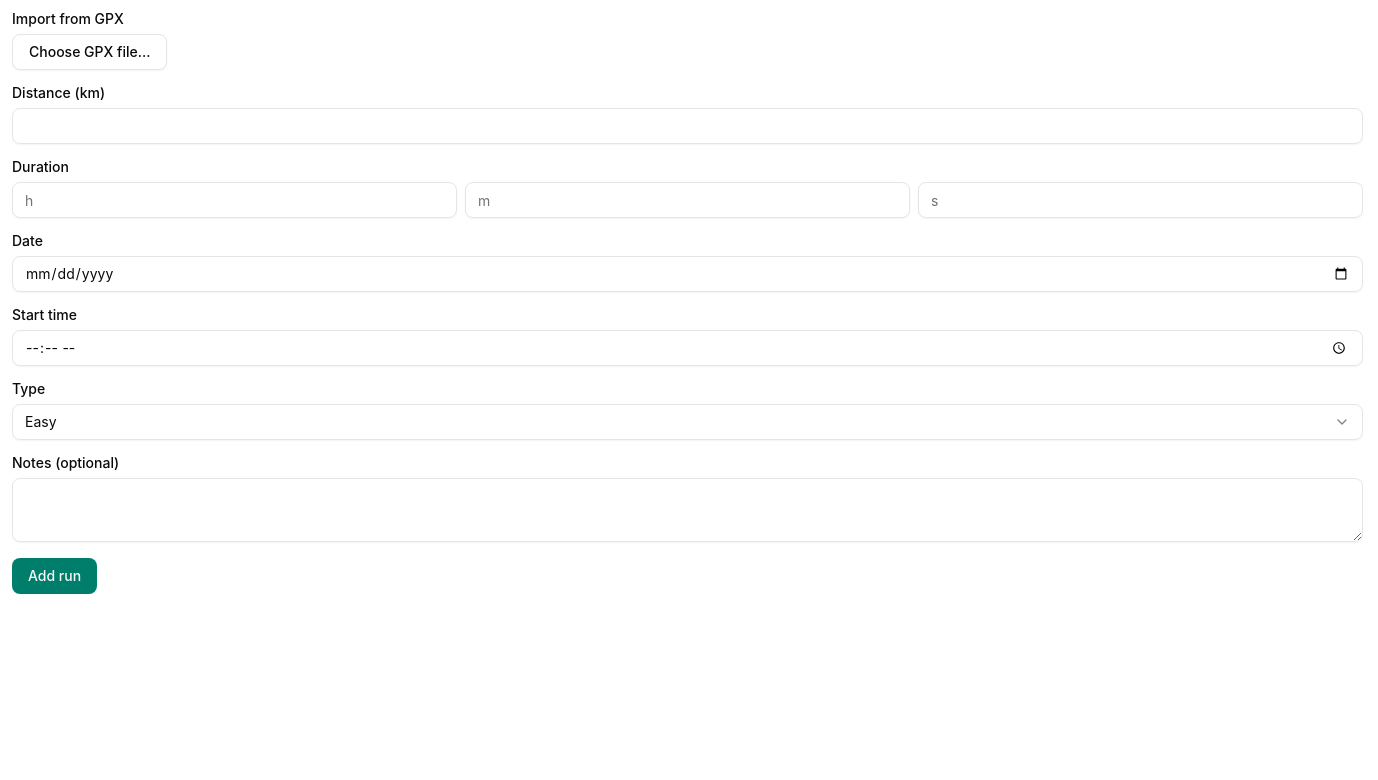
RunForm duration validation › blocks submit and shows an error when duration is empty
In the number field labelled "Distance (km)": (688, 126) [12,108,1363,144], type "5"
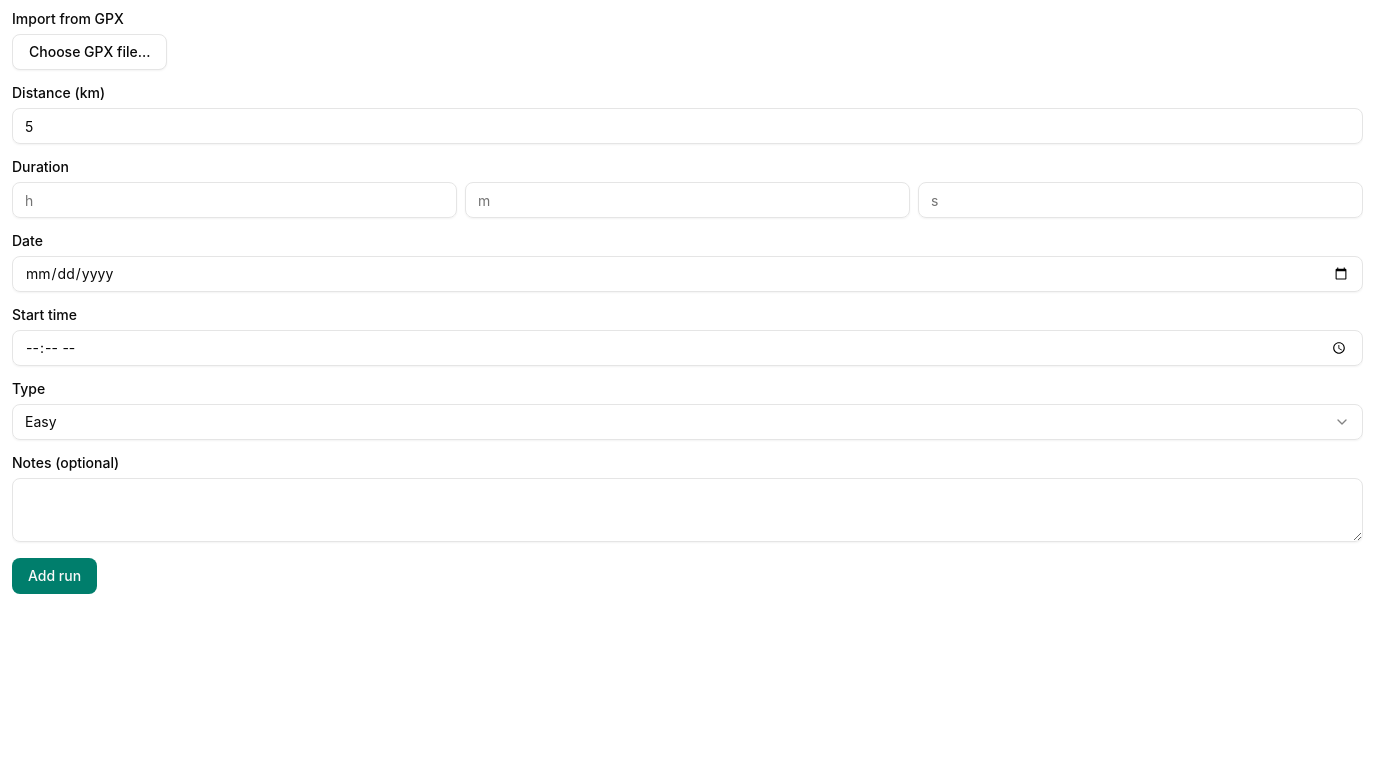
In the date field labelled "Date": (688, 274) [12,256,1363,292], type "2026-06-01"
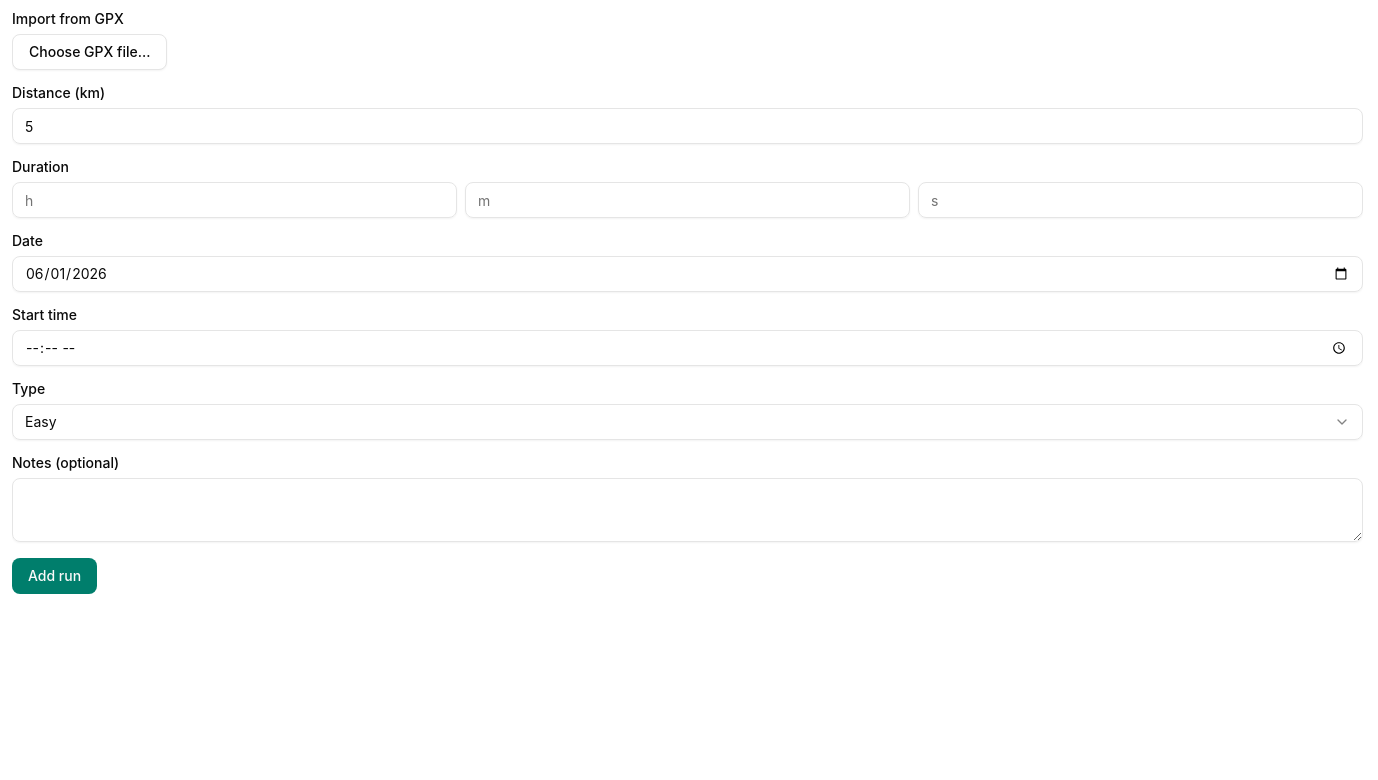
In the time field labelled "Start time": (688, 348) [12,330,1363,366], type "07:30"
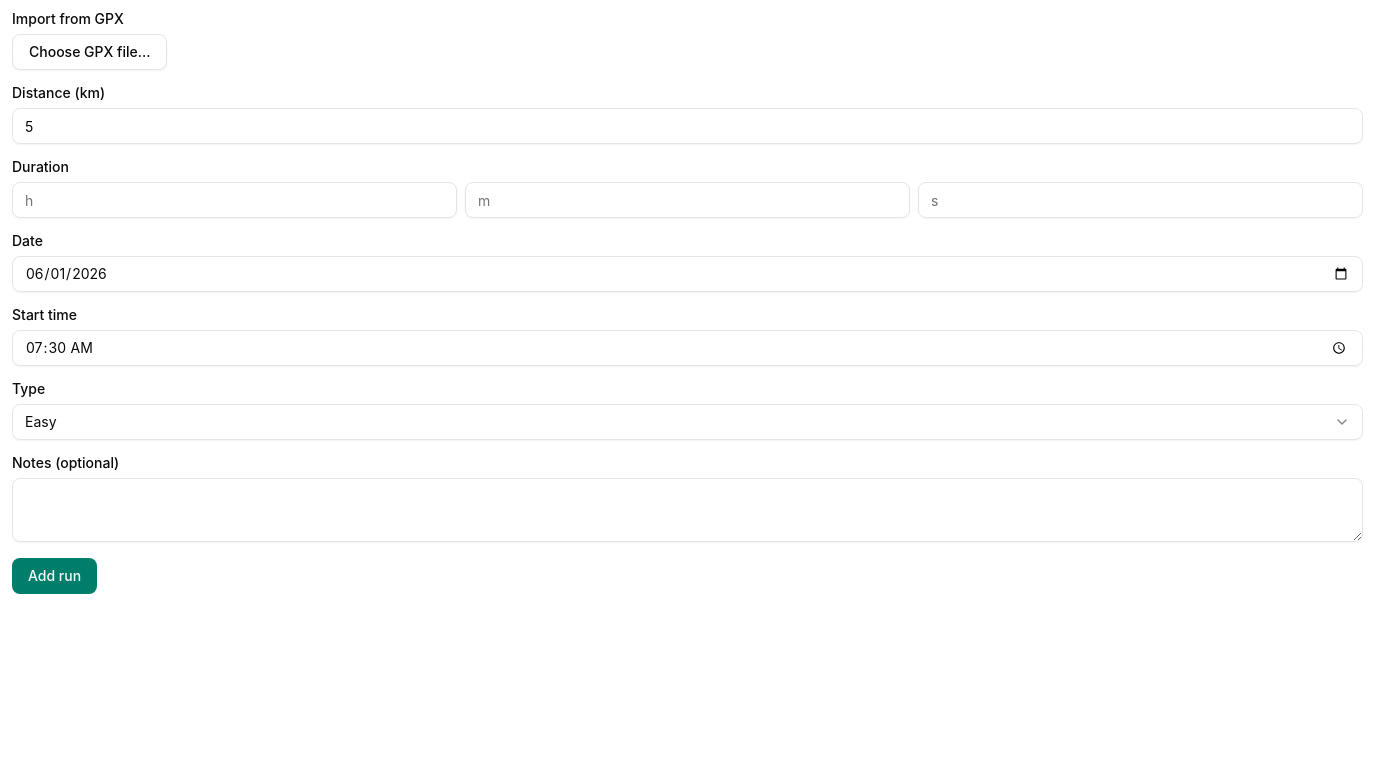
Click the button "Add run": (55, 576) [12,558,97,594]
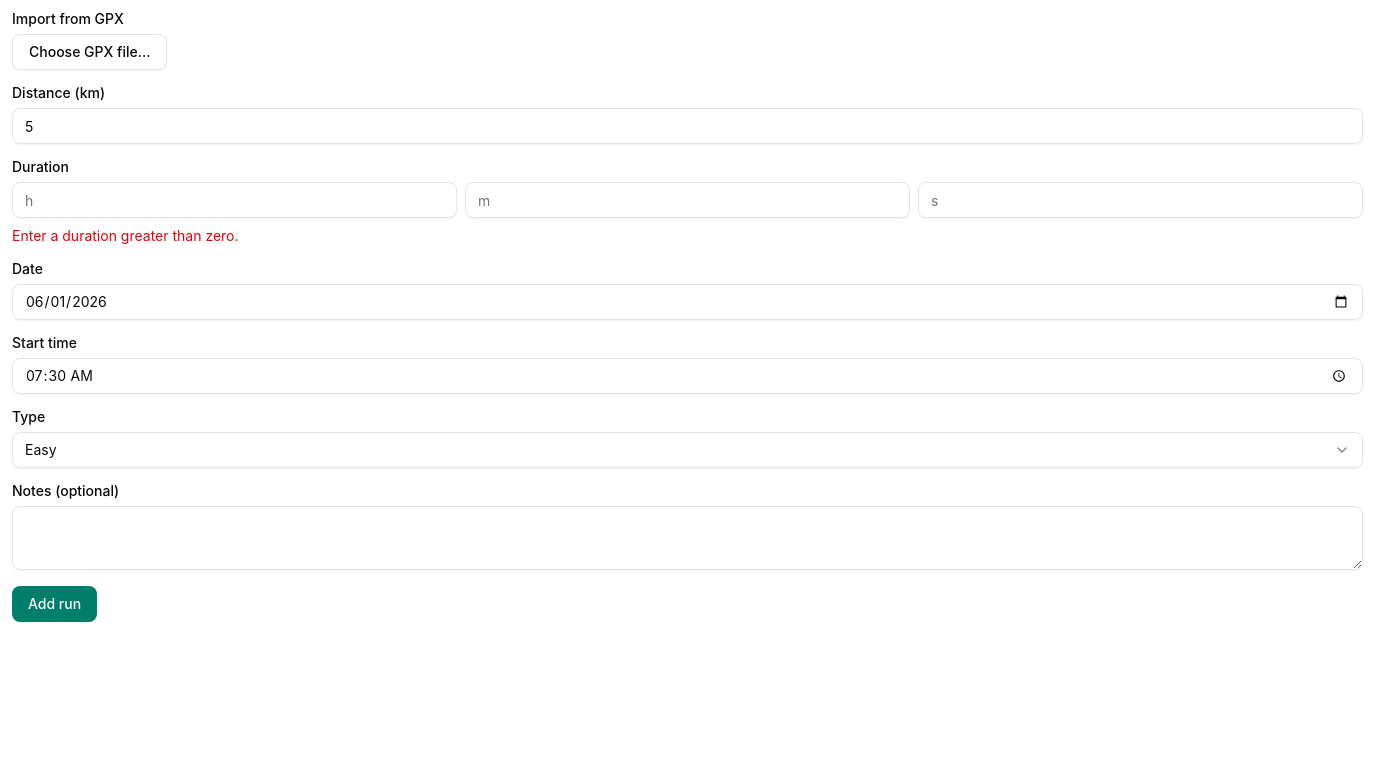
Result: the text "Enter a duration greater than zero." is shown at [12,227,238,244]
